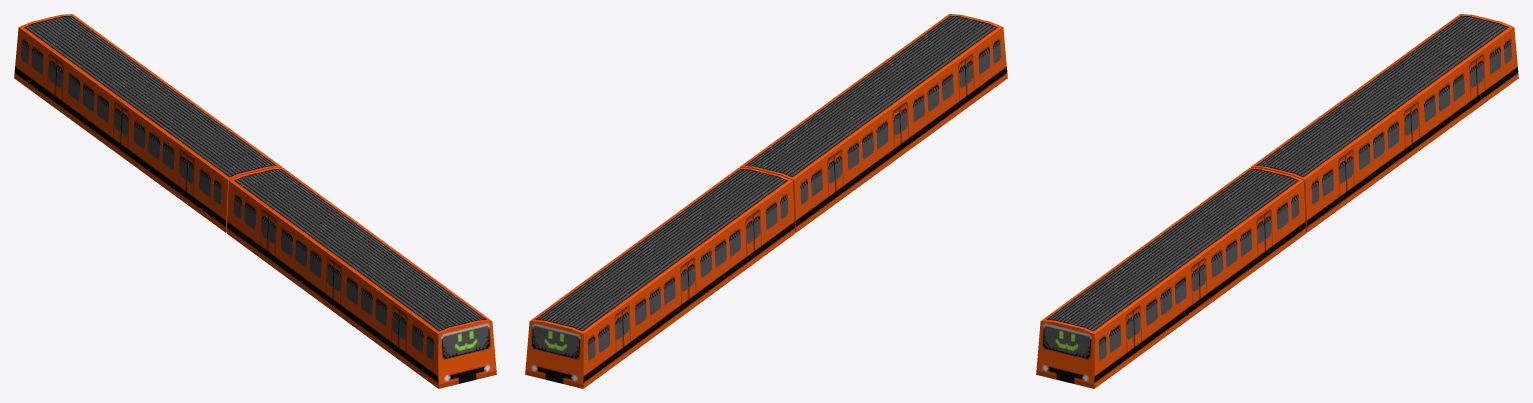
3 views of the same model, side by side, from view 1: azimuth 30°, elevation 25°; view 2: azimuth 150°, elevation 25°; view 3: azimuth 330°, elevation 25° (orthographic).
Parts seen in each view (by area): view 1: back, front; view 2: front, back; view 3: back, front.
Part boxes in pixels (box(x1,y1,x2,y2)): back: box(226, 167, 496, 388); front: box(14, 14, 281, 232); front: box(525, 167, 795, 388); back: box(740, 14, 1007, 232); back: box(1036, 167, 1306, 388); front: box(1251, 14, 1518, 232).
Size of the model in its own units: 2.19 by 1.97 by 27.56.
Materials: 1 (1 with a texture image).
